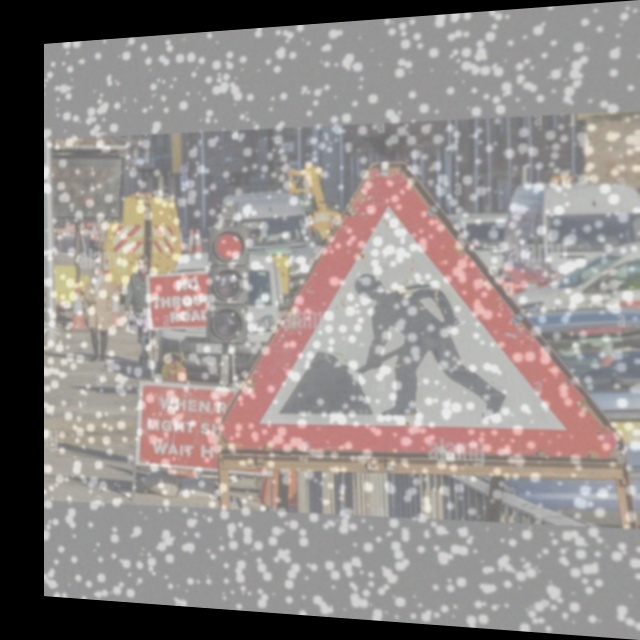Men_at_Work: (240, 165, 588, 468)
